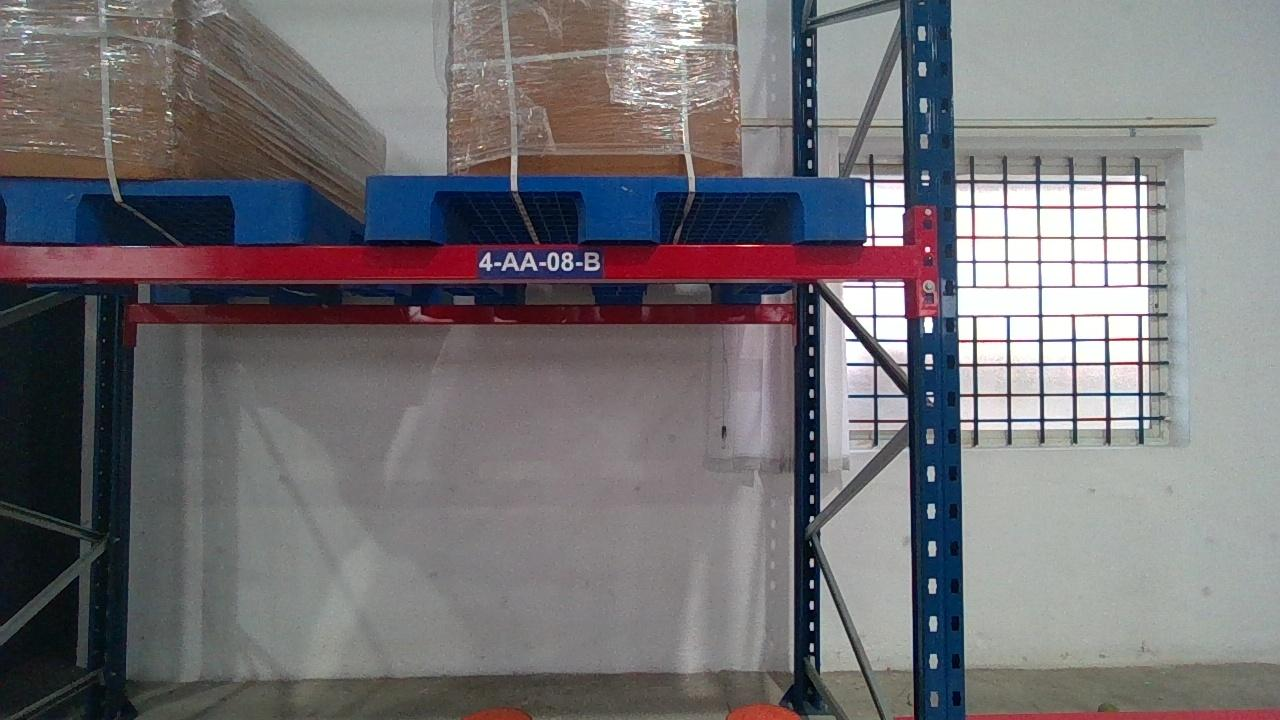h_rack: (1, 241, 922, 280)
small_pallet: (364, 174, 869, 239), (0, 177, 305, 241)
